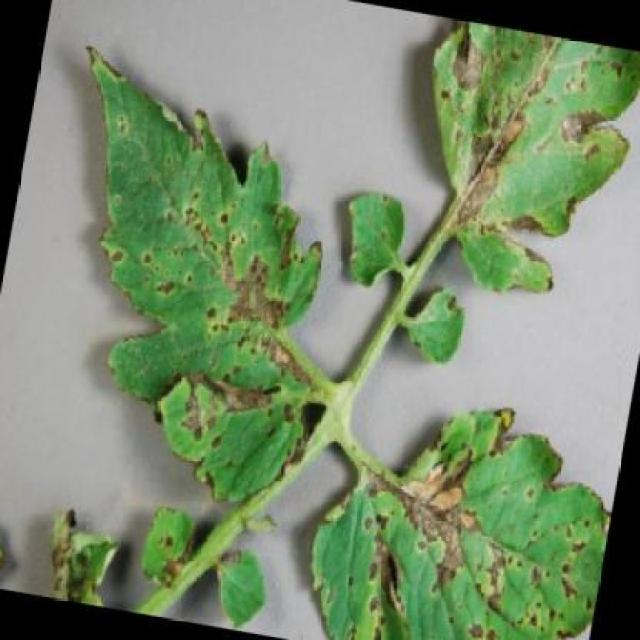Septoria leaf spot: (6, 21, 375, 518), (279, 367, 628, 640), (387, 21, 640, 326)
